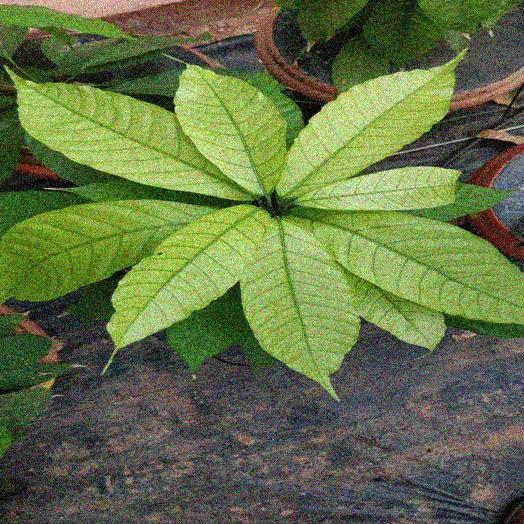Healthy Leaf: (0, 310, 67, 456), (166, 286, 274, 373), (364, 0, 442, 68), (0, 191, 84, 238)
Iron: (10, 71, 250, 199), (277, 58, 458, 199), (295, 213, 523, 321), (108, 205, 268, 347), (240, 219, 359, 399), (0, 200, 210, 300), (175, 66, 286, 199), (297, 167, 459, 210)
